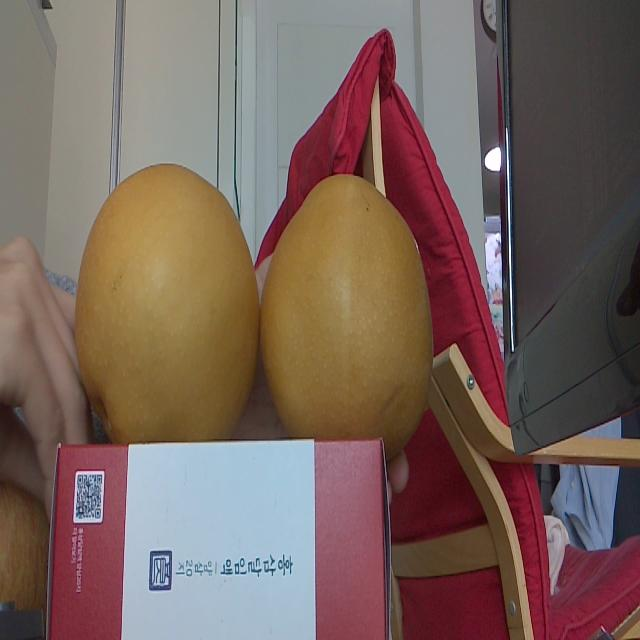apple: (0, 480, 44, 597)
pear: (76, 164, 256, 441), (258, 176, 433, 438)
